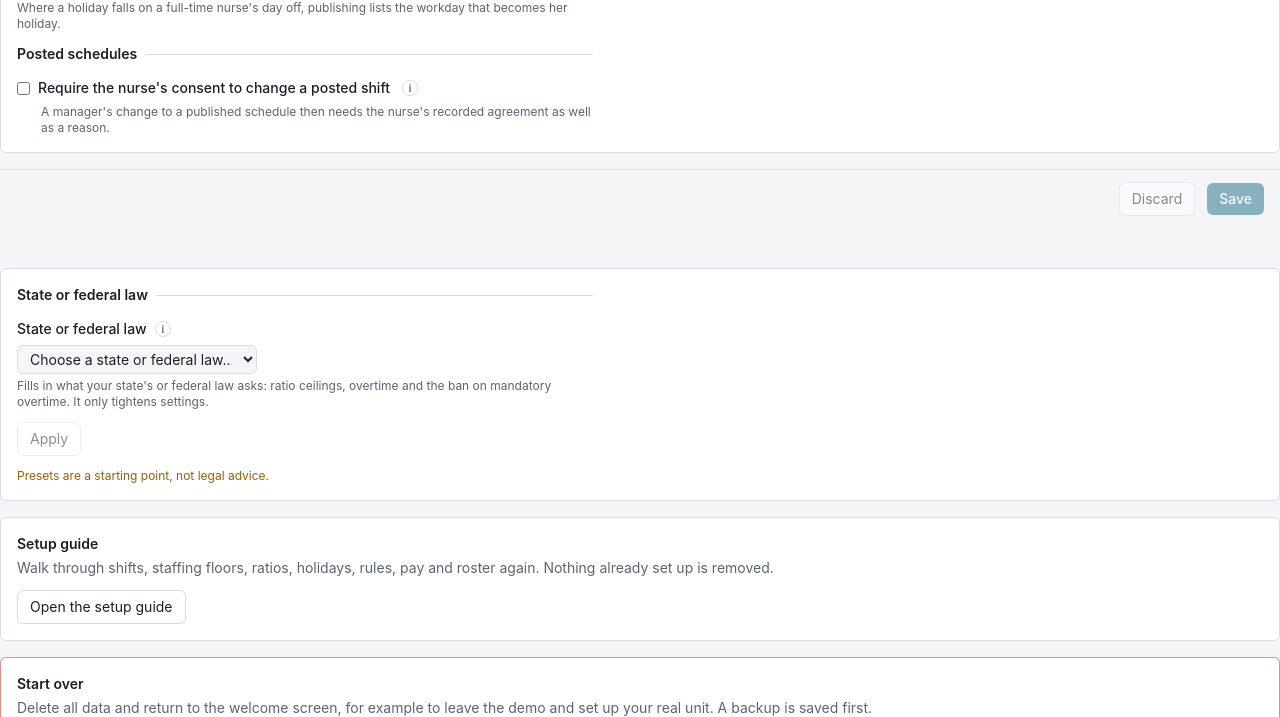
Settings › Unit state law › shows what California asks before anything is applied, and sends nothing for it
The width and height of the screenshot is (1280, 717).
(page scrolled)
Select "California" in the dropdown labelled "State or federal law". click: {"x": 137, "y": 360}
box: [17,345,257,374]
(page scrolled)
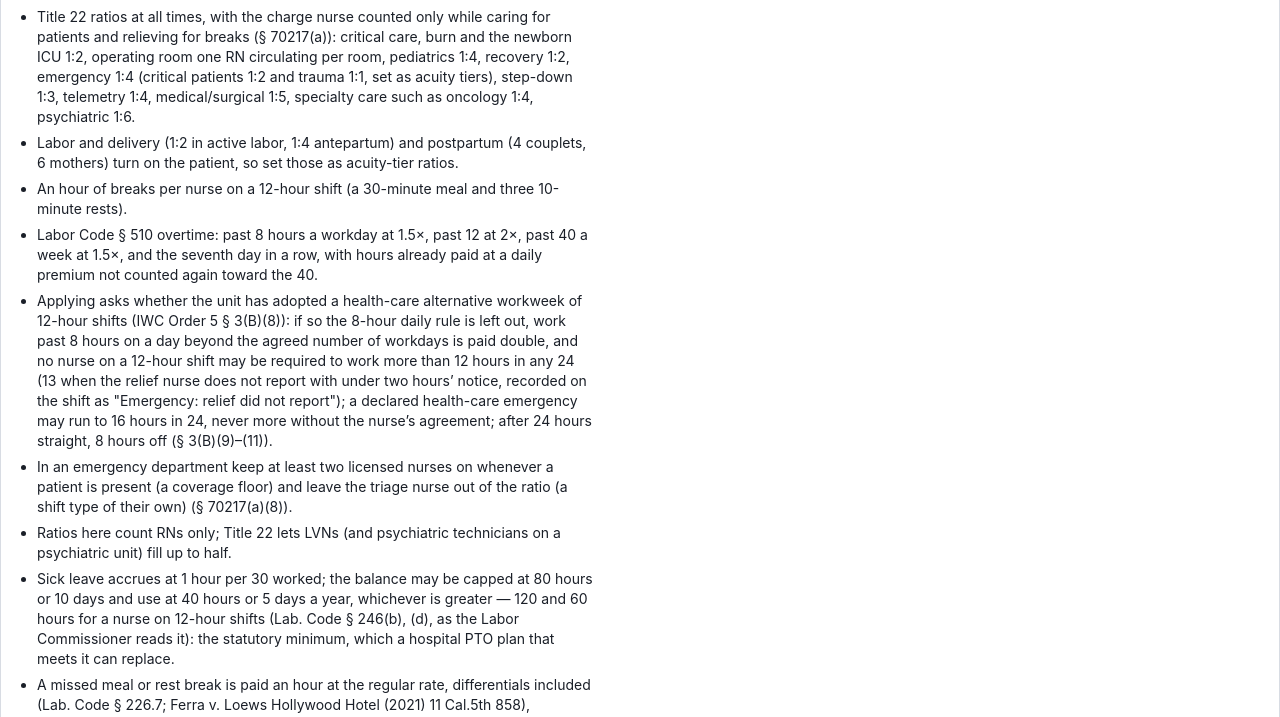
Check: the element with test id "state-law-summary" shows "Title 22 ratios", box [37,8,573,125]
